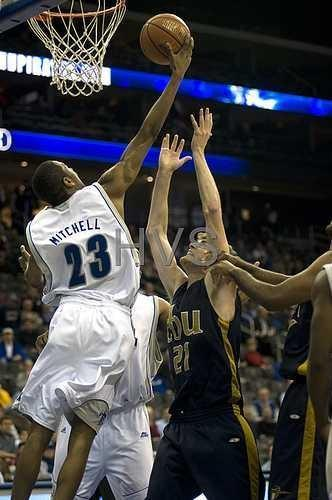ball: (138, 10, 192, 67)
human: (8, 33, 194, 500), (146, 102, 266, 500)
rim: (25, 0, 129, 98)
